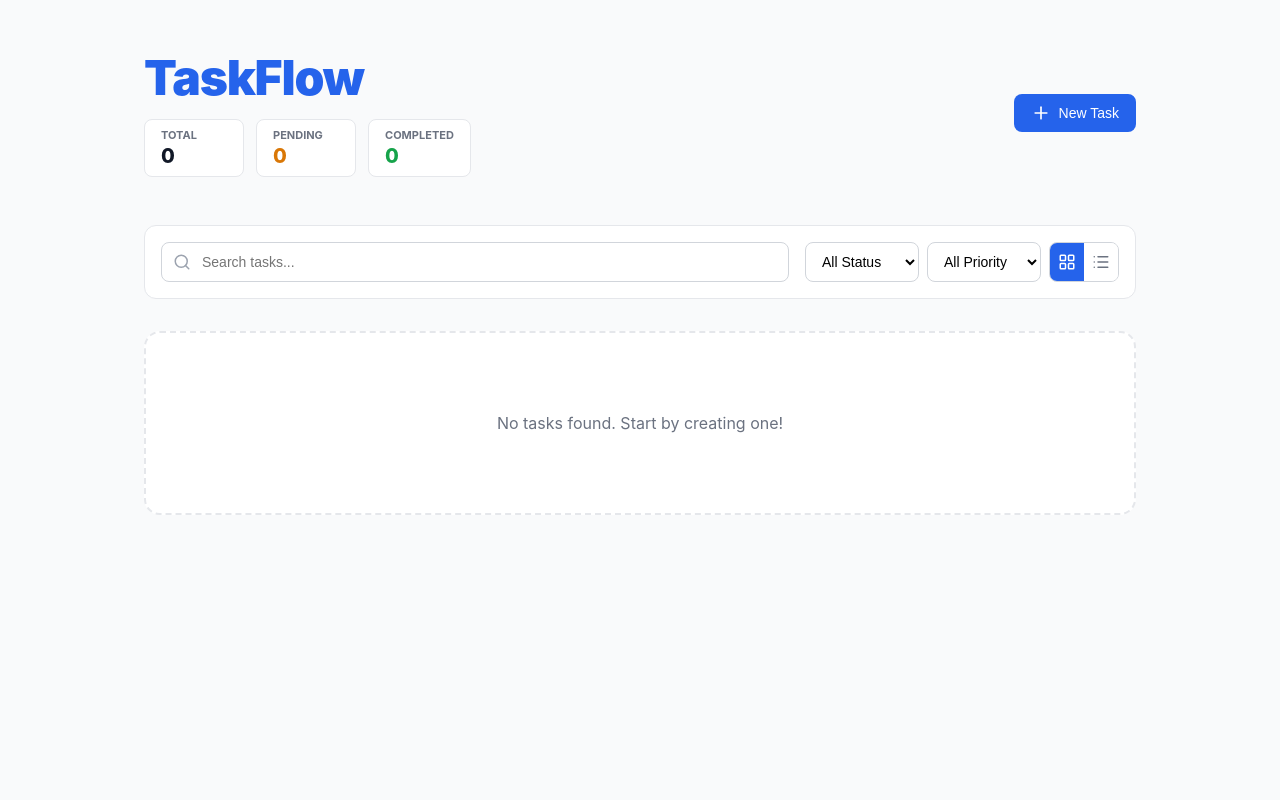
it: Dashboard View › opens the modal when clicking "New Task"
The width and height of the screenshot is (1280, 800).
Step 1. Click the button "New Task" → (1075, 112), box [1014,94,1136,132]
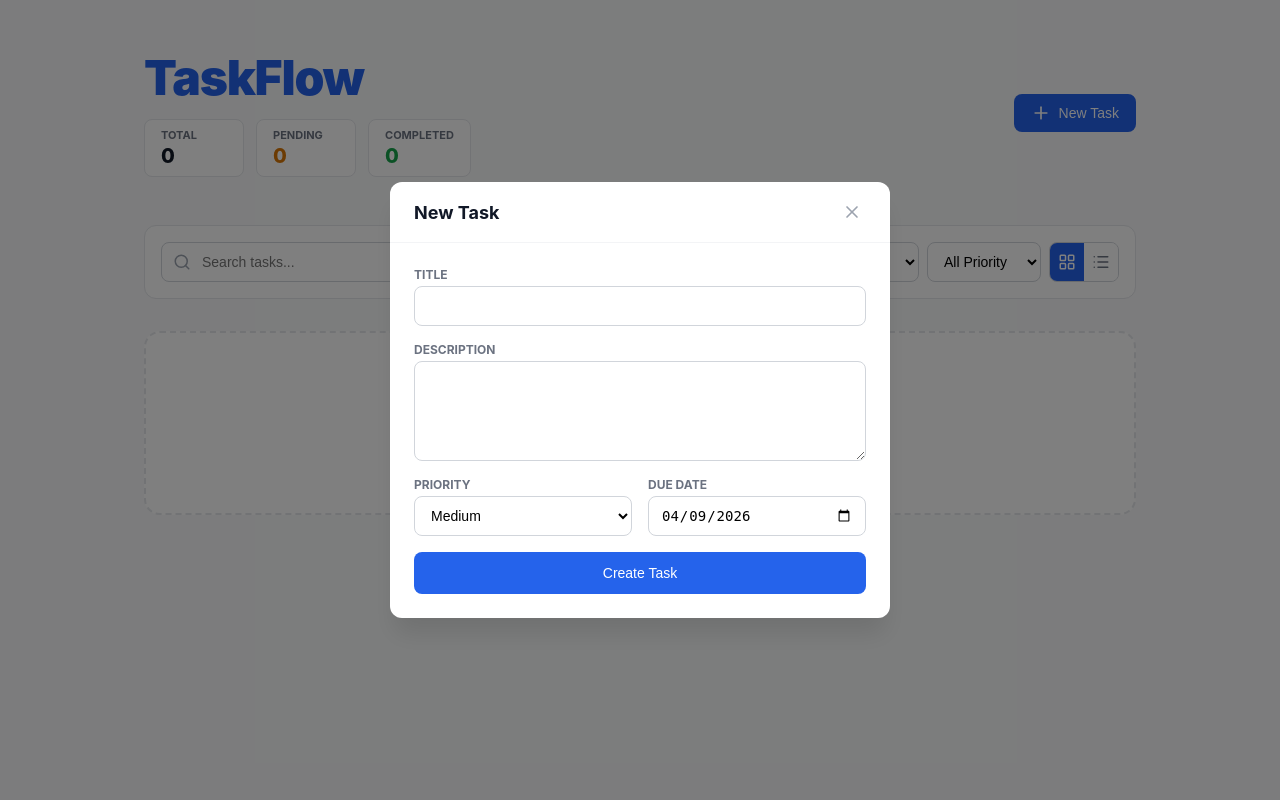
Result: the heading "New Task" is shown at [414,202,499,222]
